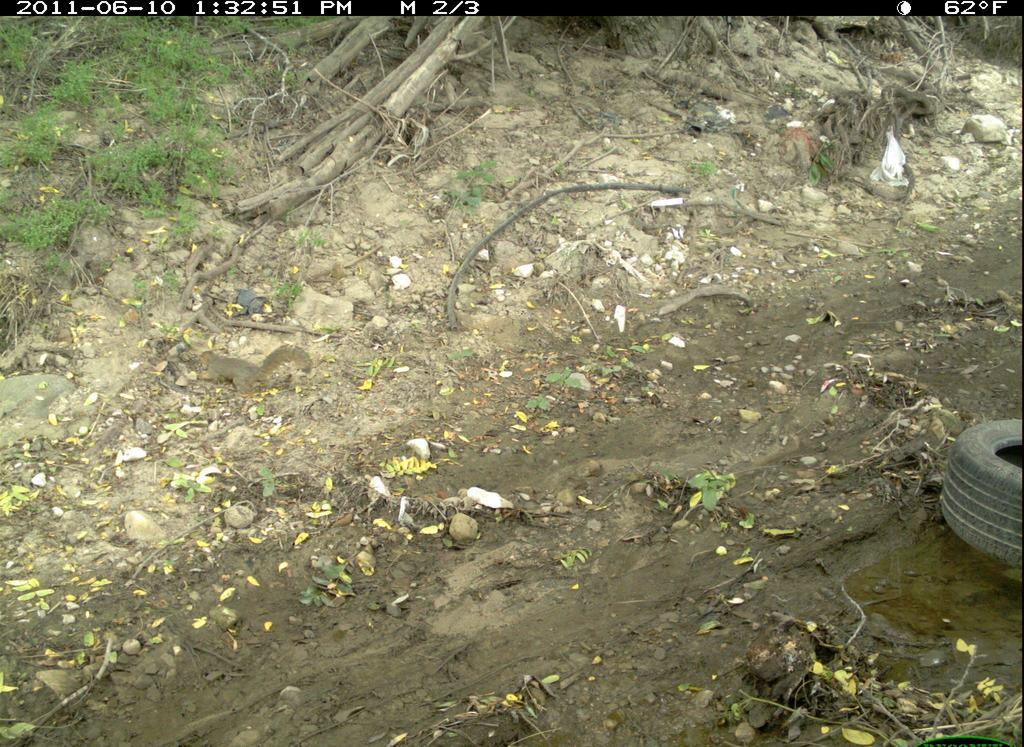squirrel: (190, 329, 322, 406)
